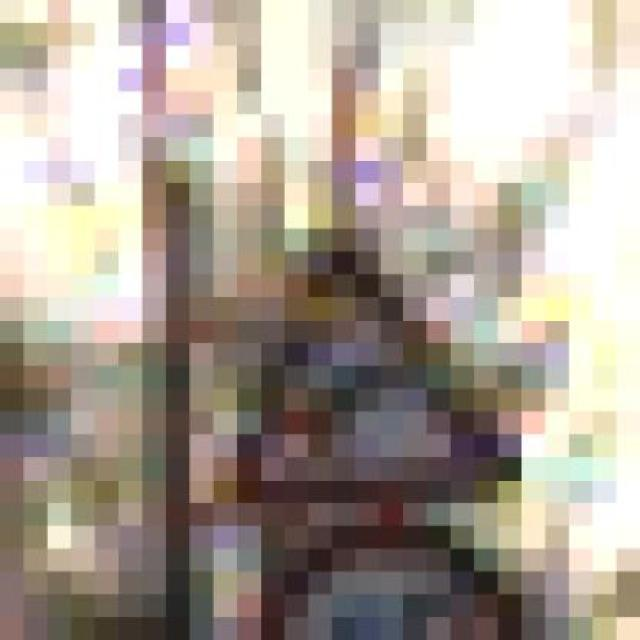Dangerous Rright Curve Ahead: (189, 206, 522, 548)
